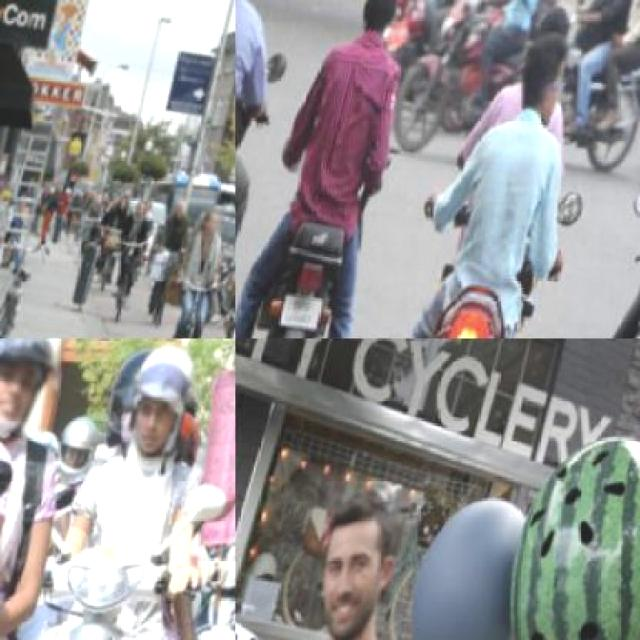With Helmet: (112, 339, 208, 466), (0, 339, 77, 443), (50, 406, 108, 489)
Without Helmet: (295, 477, 420, 638), (516, 29, 578, 114), (357, 0, 414, 38), (198, 202, 230, 240), (171, 190, 194, 222)
